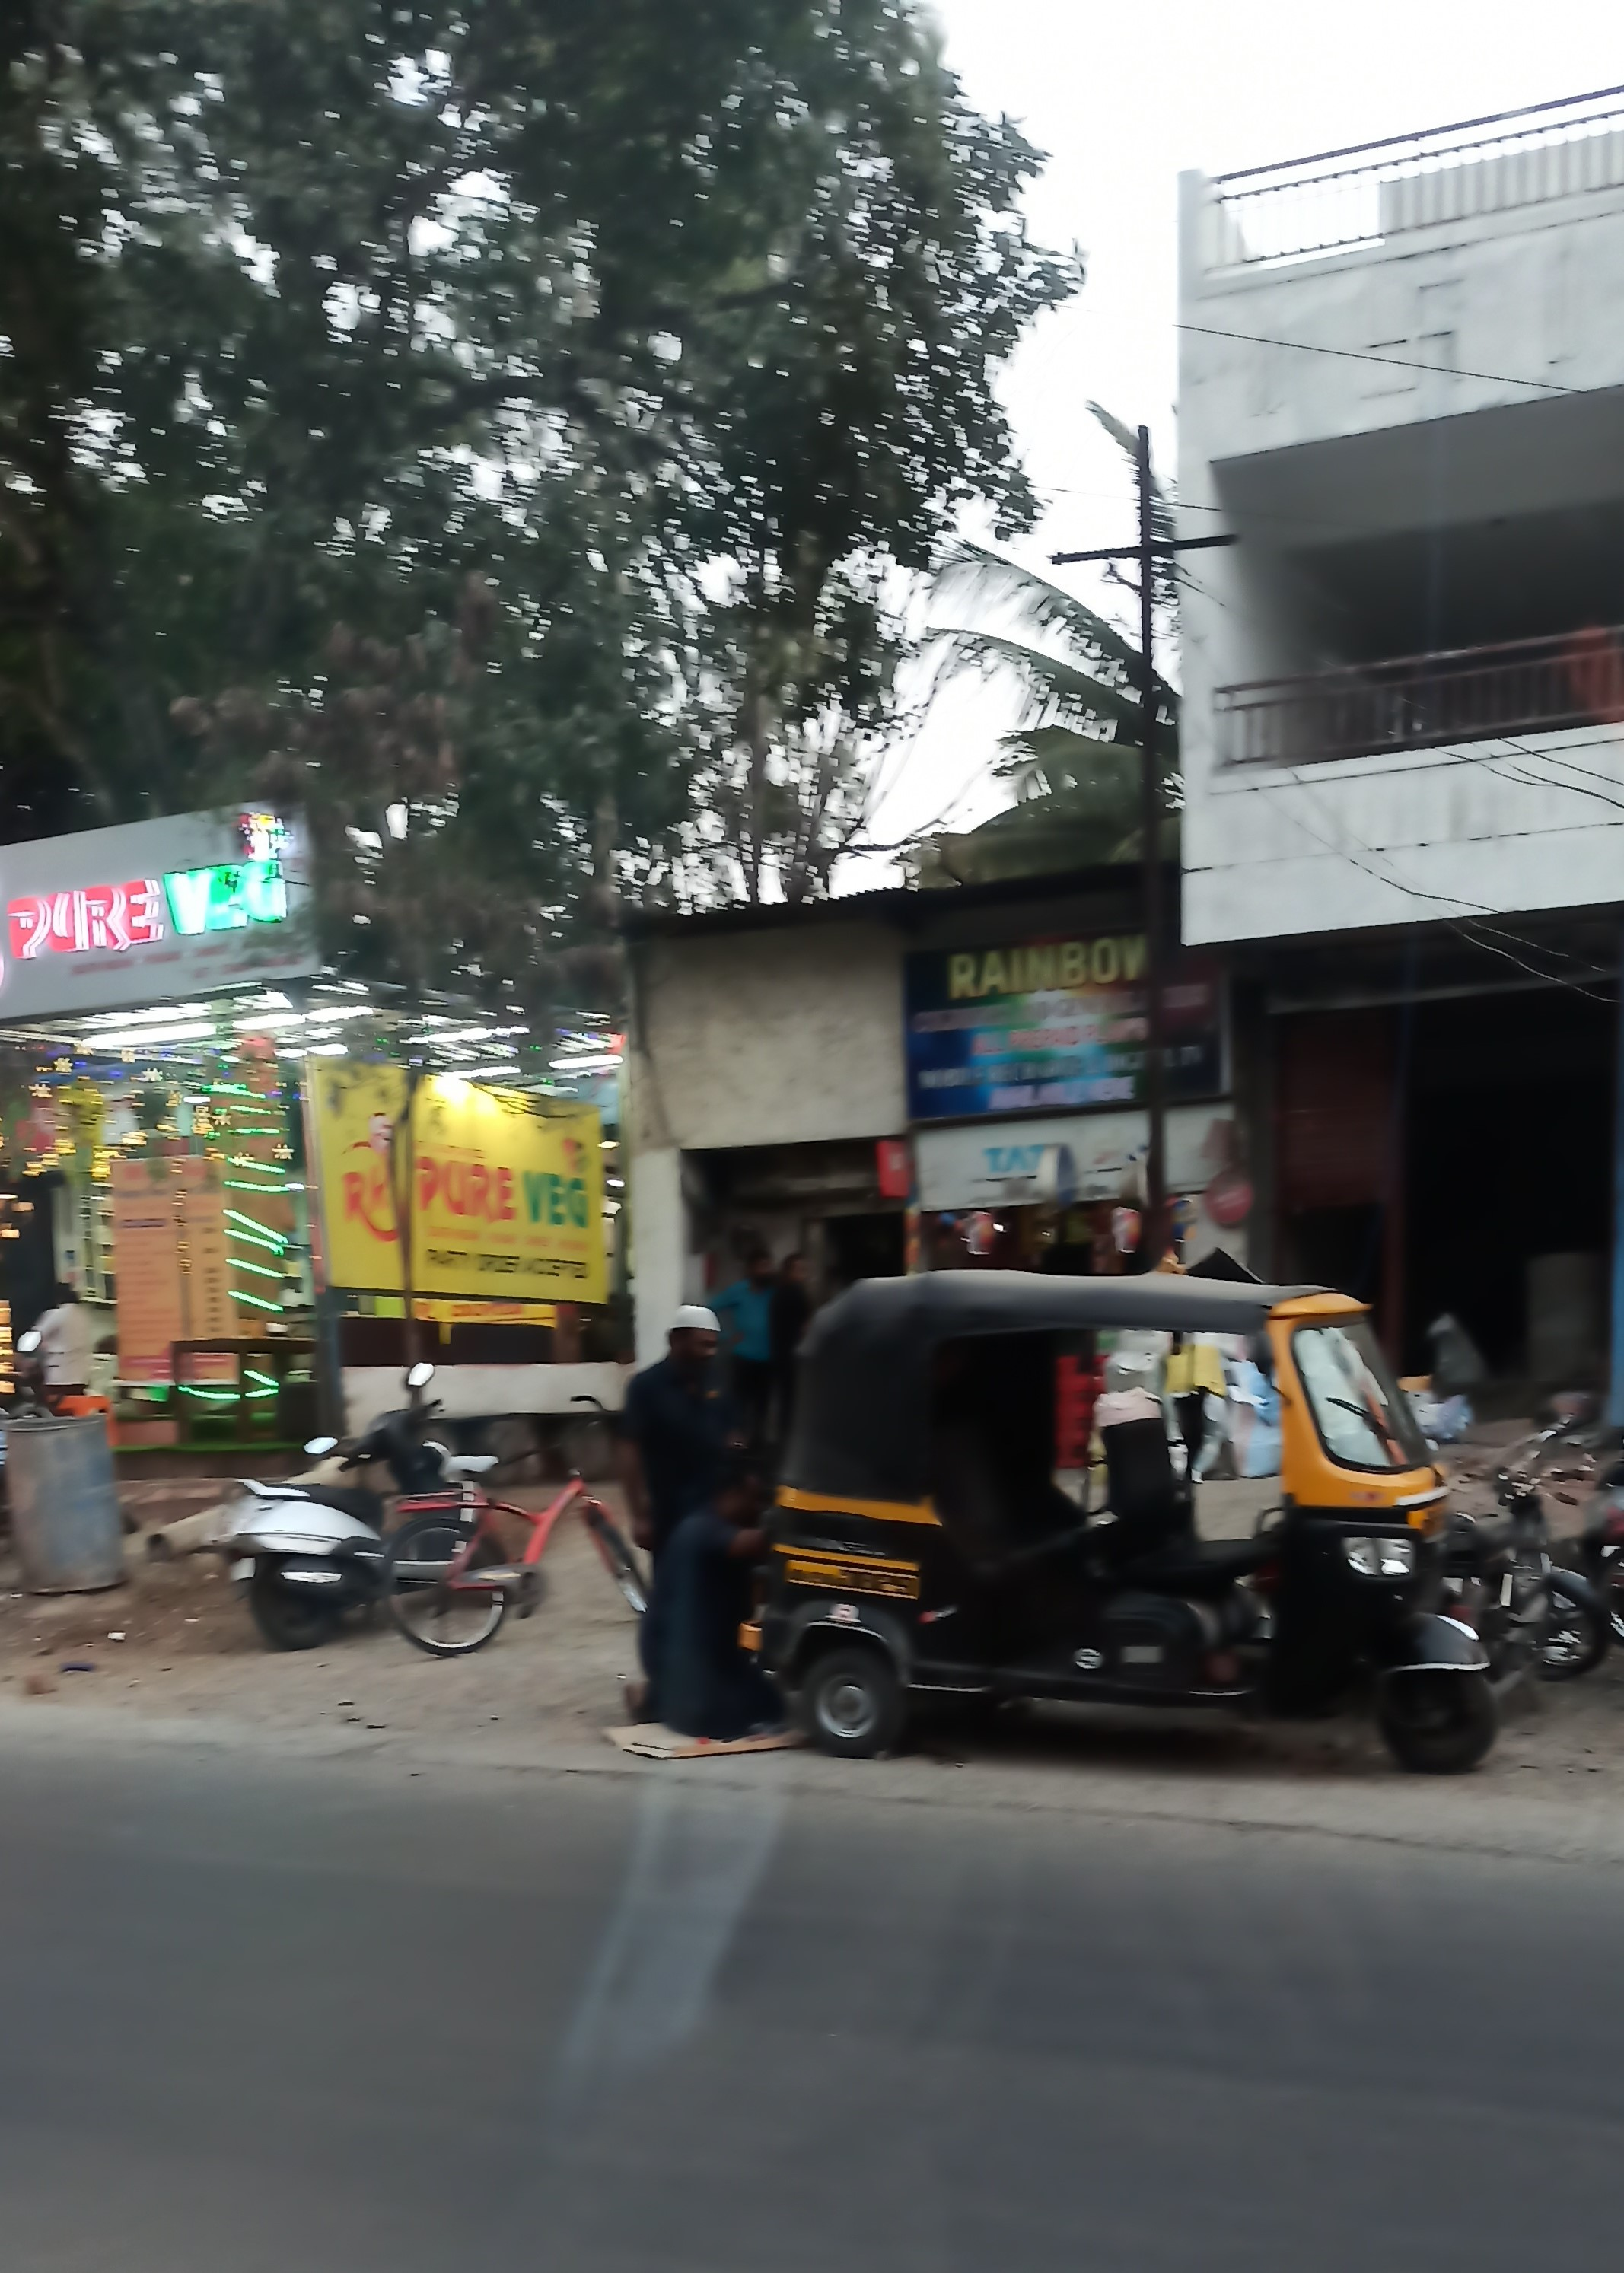Cycle: (380, 1412, 643, 1704)
Rikshaw: (800, 1266, 1490, 1829)
